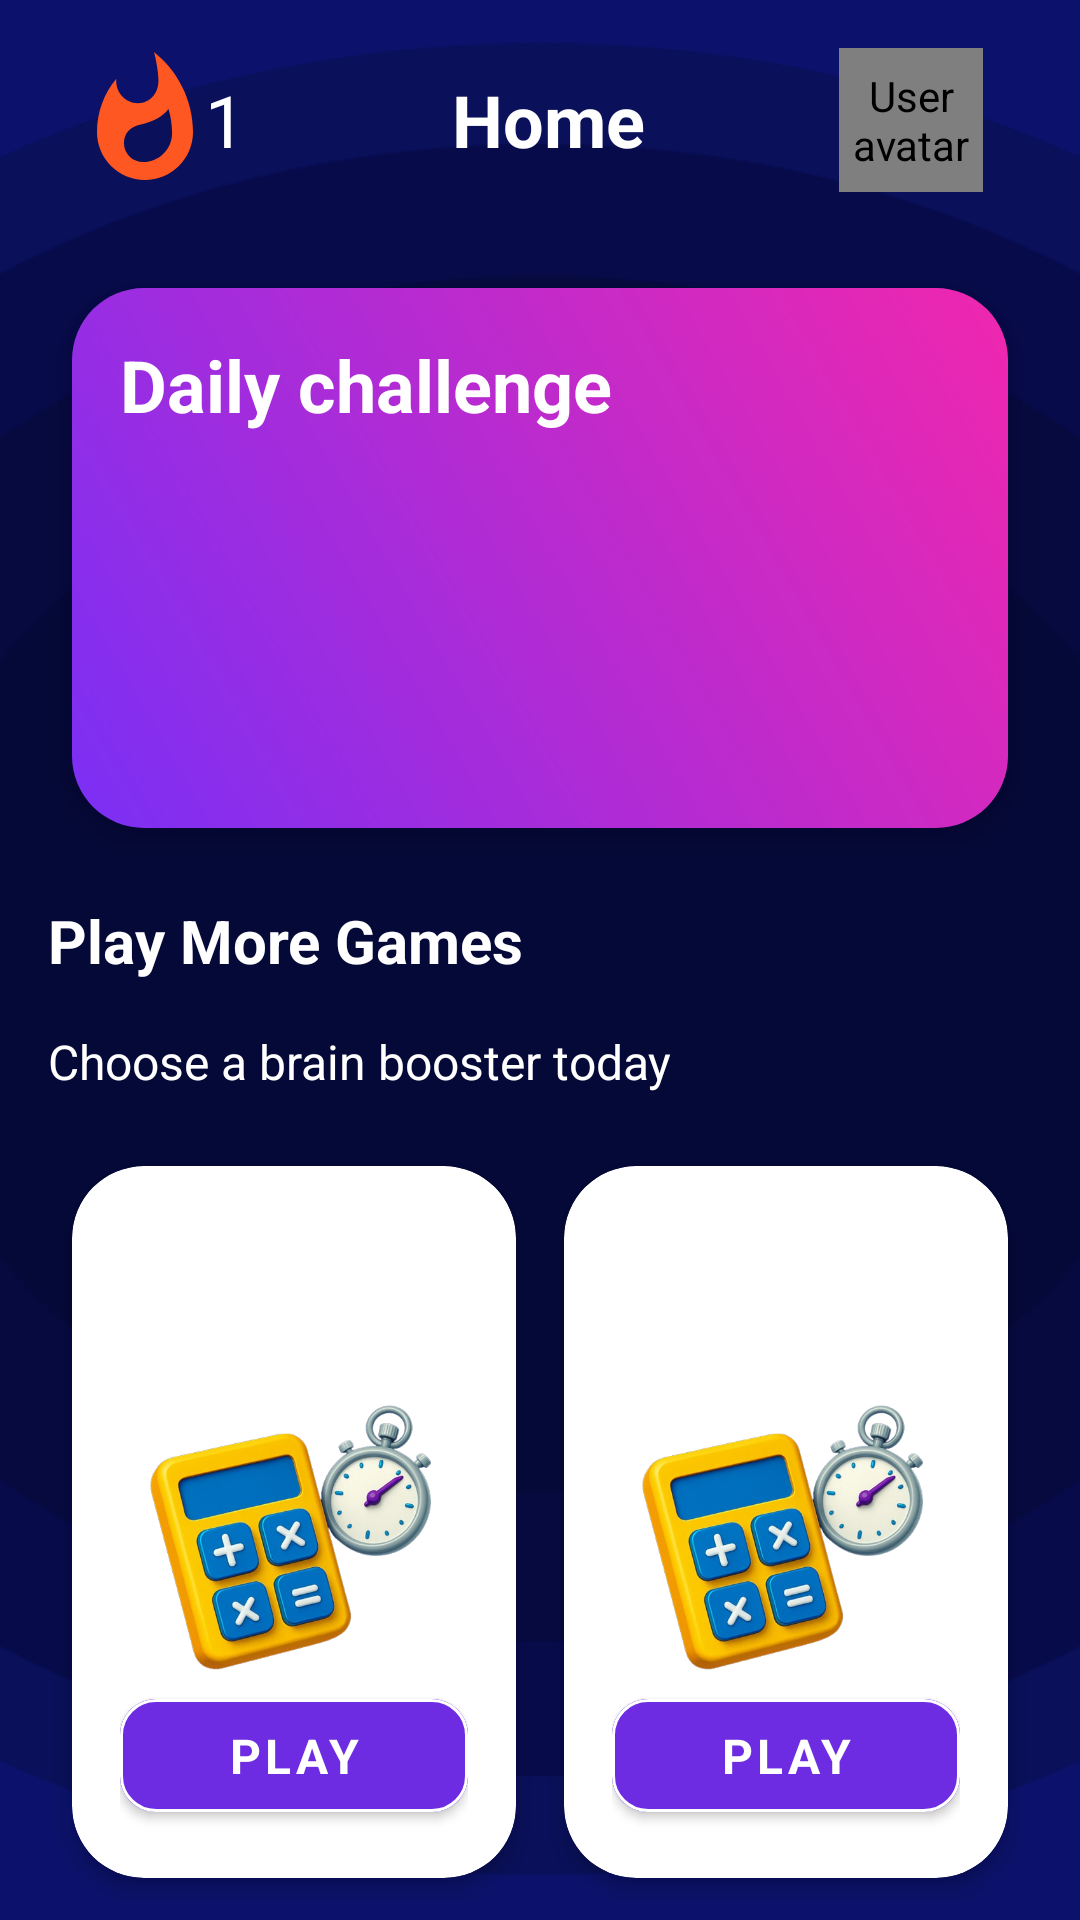

Point at icon controls on the screen. Image size 1080×1920, points as (x=x, y=y).
Streak icon: (x=145, y=114)
